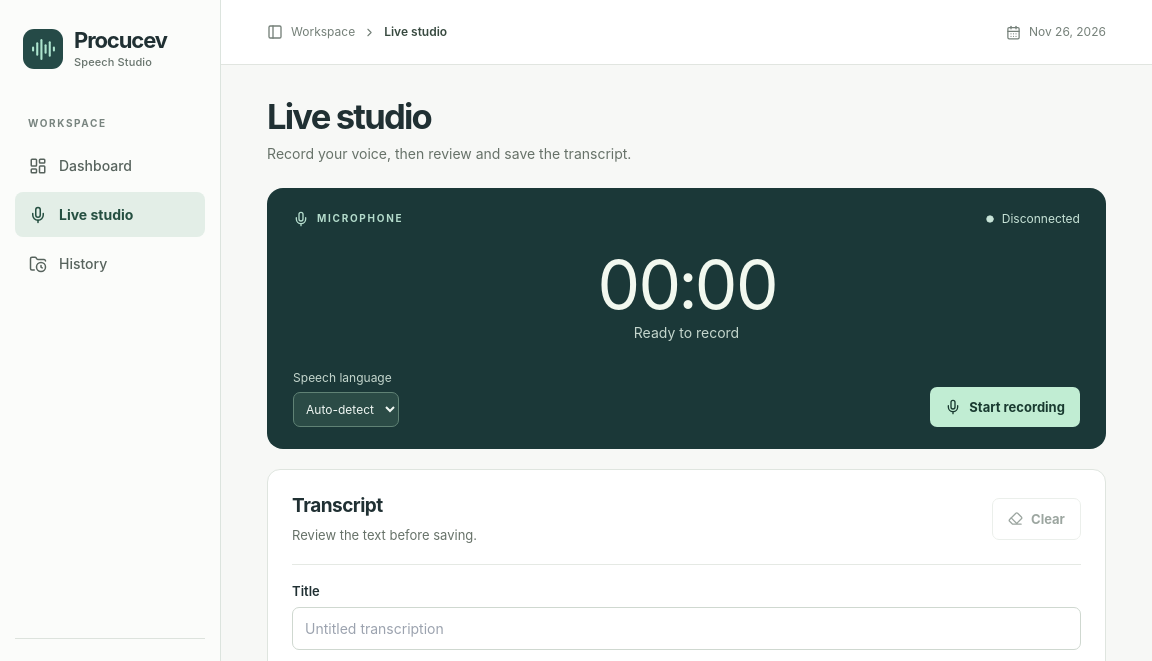
speech studio › explains denied microphone access and allows retry
Click the button "Start recording".
click(1005, 406)  # box top-left (930, 386), bottom-right (1080, 426)
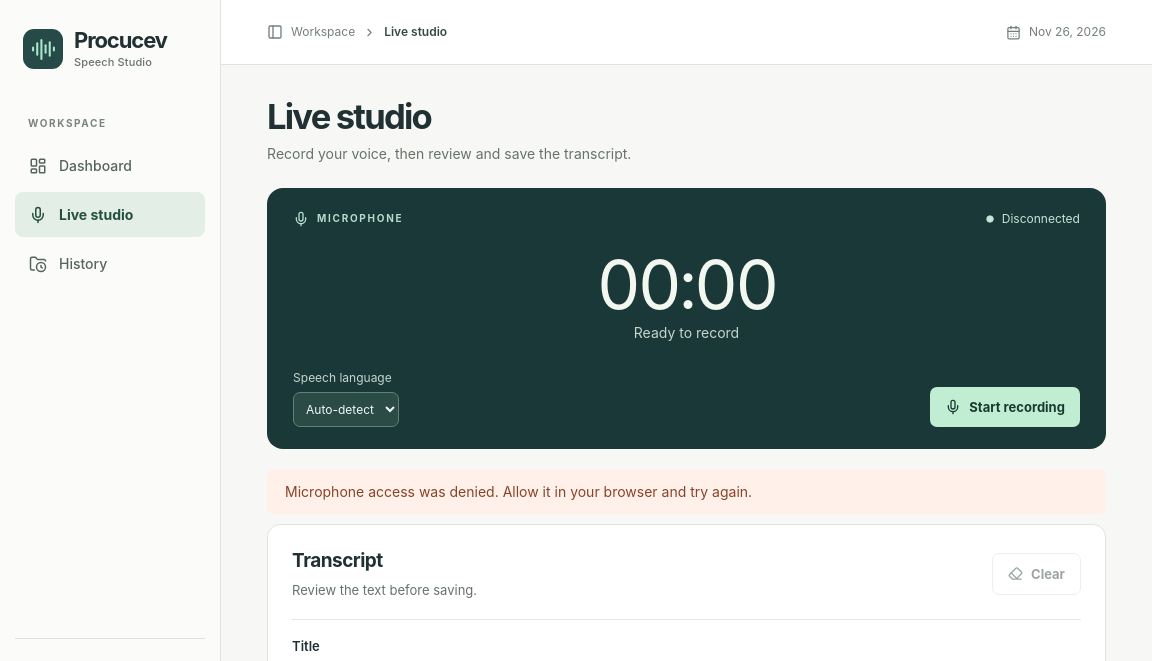
Now the message "Microphone access was denied. Allow it in your browser and try again." is shown, box top-left (267, 468), bottom-right (1106, 514)
